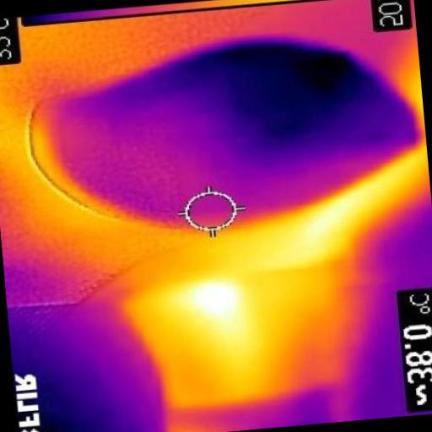mango: (33, 42, 419, 231)
